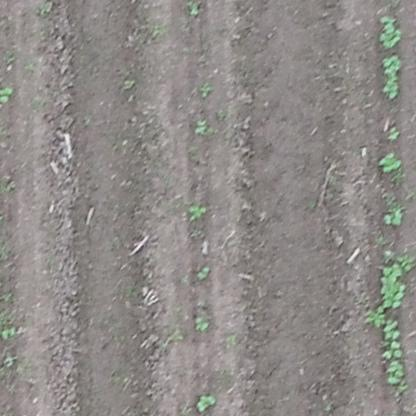vc: (384, 321, 407, 393), (380, 265, 407, 312), (383, 55, 402, 98), (379, 14, 403, 47), (381, 205, 405, 228), (377, 151, 402, 173), (192, 390, 217, 412), (191, 314, 211, 332), (189, 202, 208, 220), (386, 126, 403, 142), (194, 116, 208, 134), (2, 326, 18, 340), (196, 266, 211, 280), (2, 88, 12, 106)
